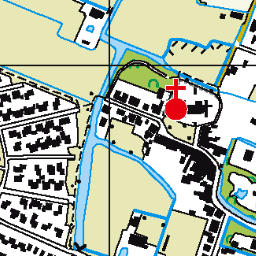church: (160, 75, 191, 122)
